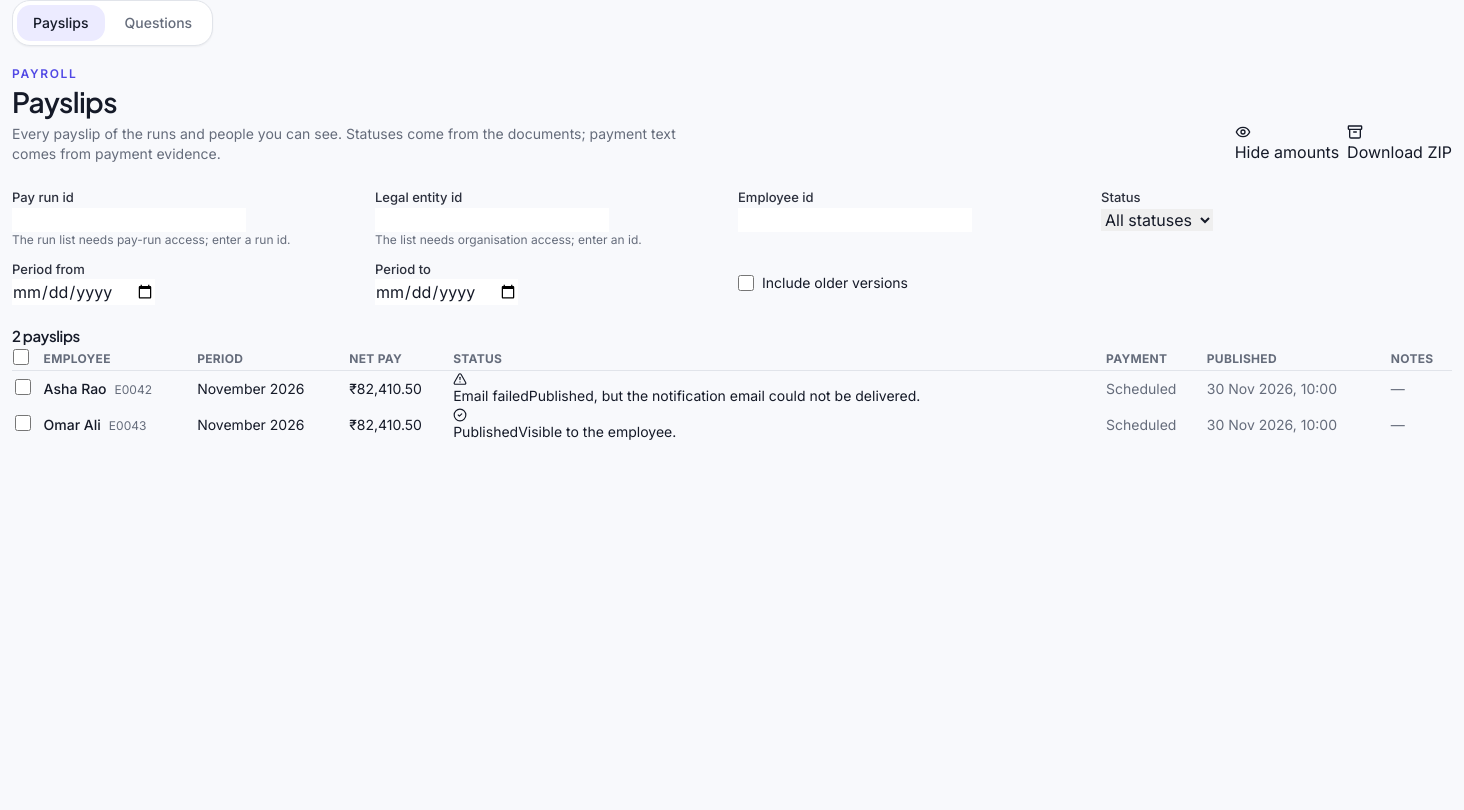
Test: Payslips (HR) › resends notifications one by one and lists failures with retry
Click the checkbox named "Select all payslips on this page": (21,356) top-left (13, 348), bottom-right (29, 364)
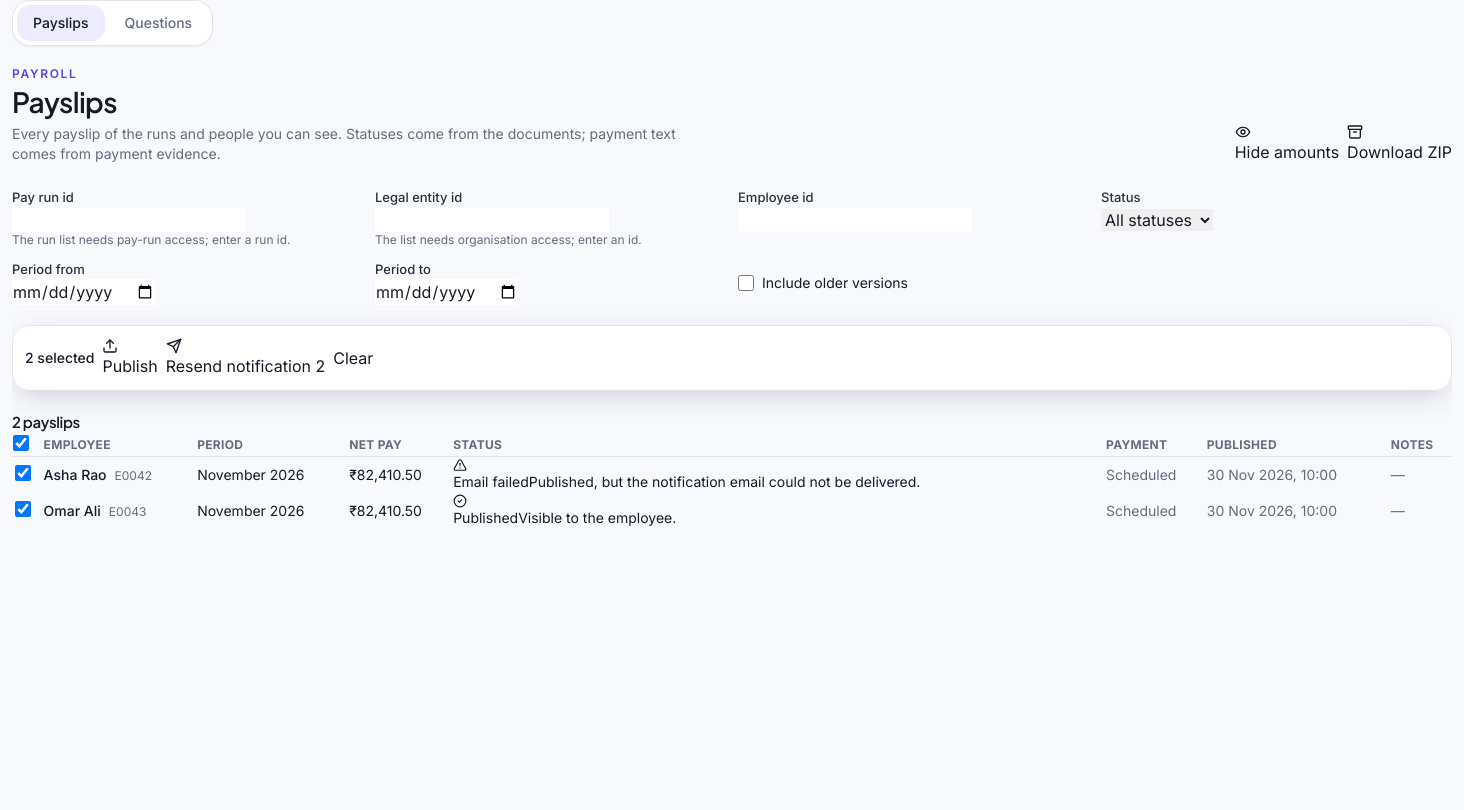
Expected: the button "Publish" is disabled, top-left (102, 338), bottom-right (158, 378)
Click the button "Resend notification 2": (245,358) top-left (166, 338), bottom-right (325, 378)
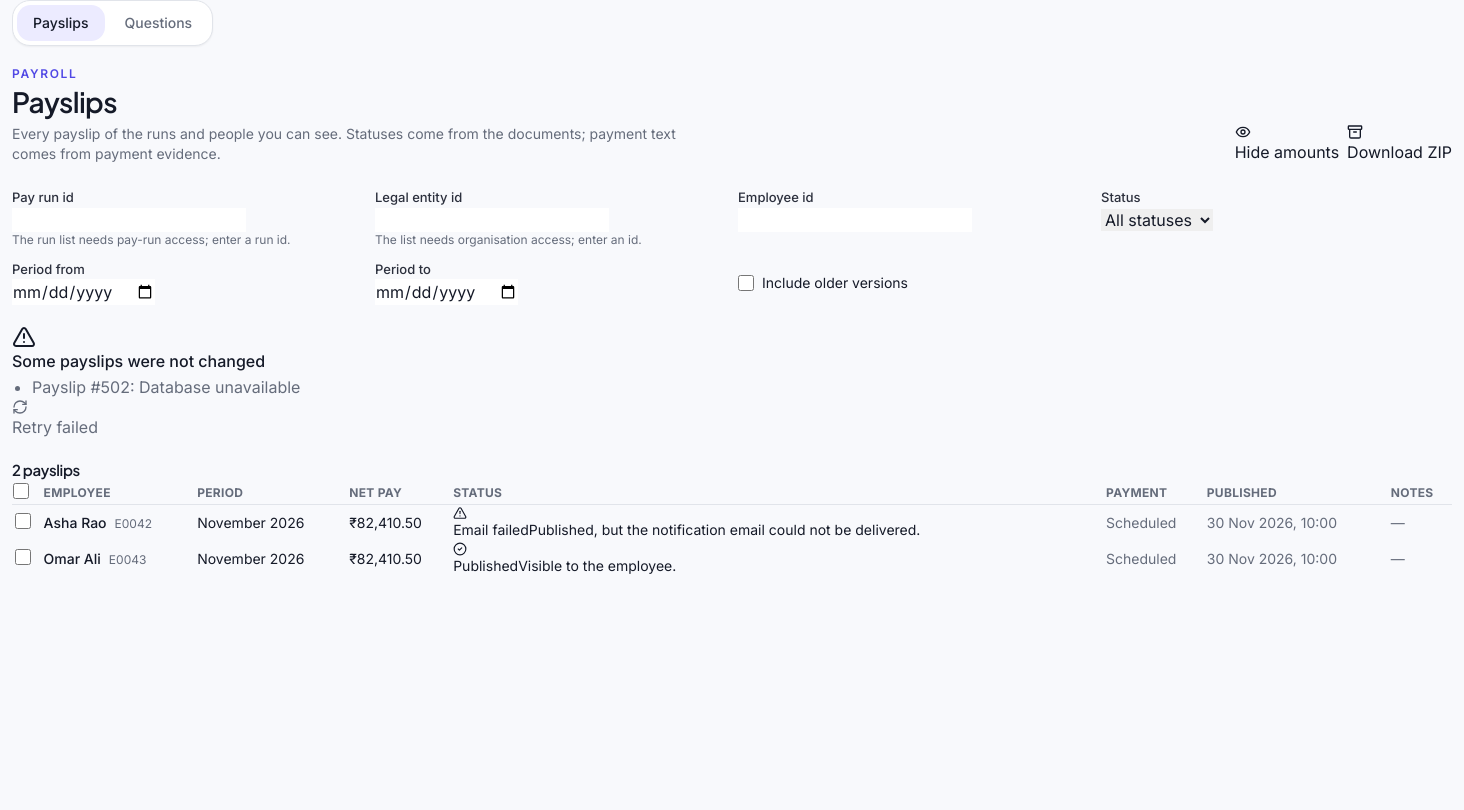
Expected: the list item "Payslip #502: Database unavailable" is shown, top-left (32, 377), bottom-right (300, 397)
Click the button "Retry failed": (55,419) top-left (12, 399), bottom-right (98, 439)
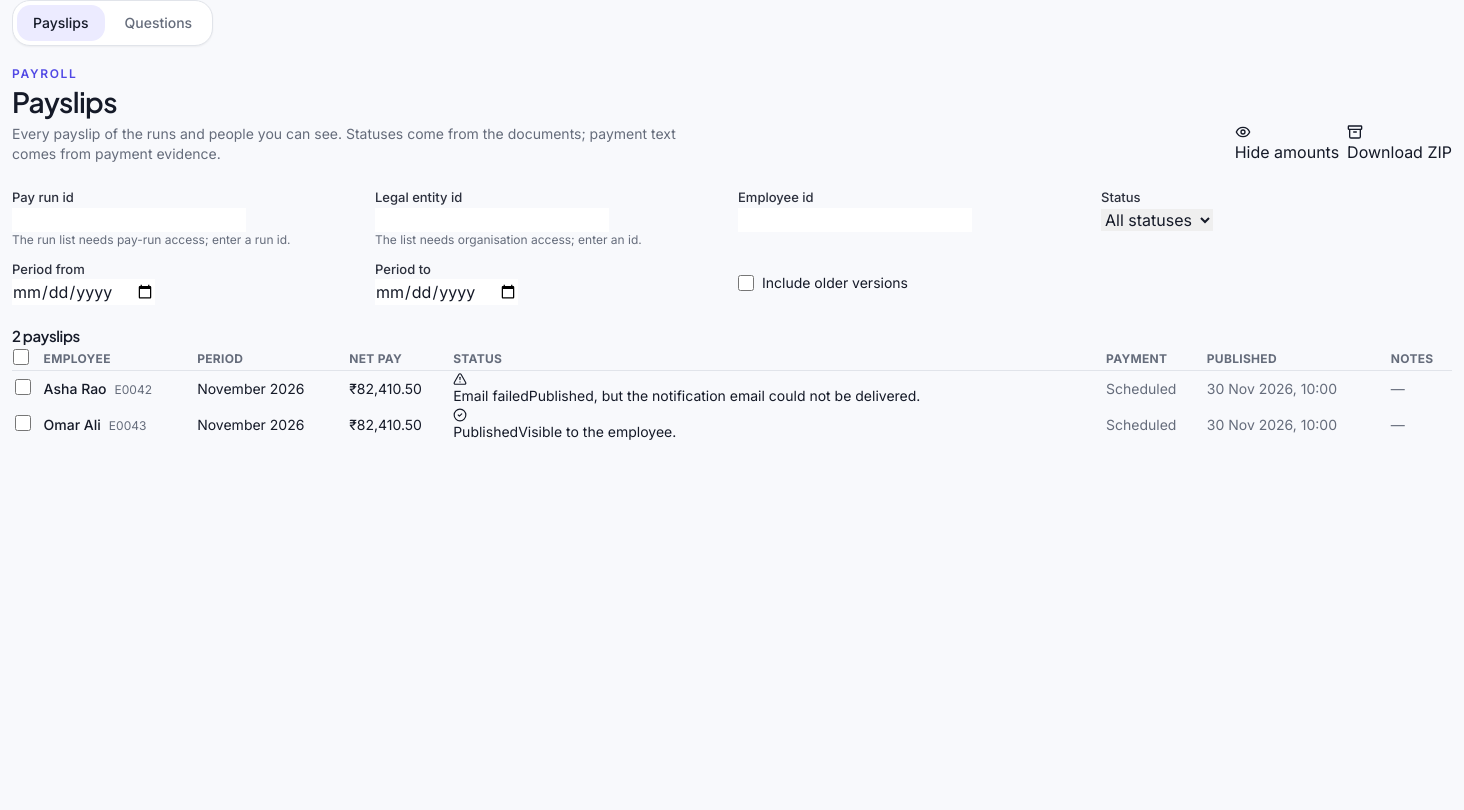
Expected: the list item "Payslip #502: Database unavailable" is gone
